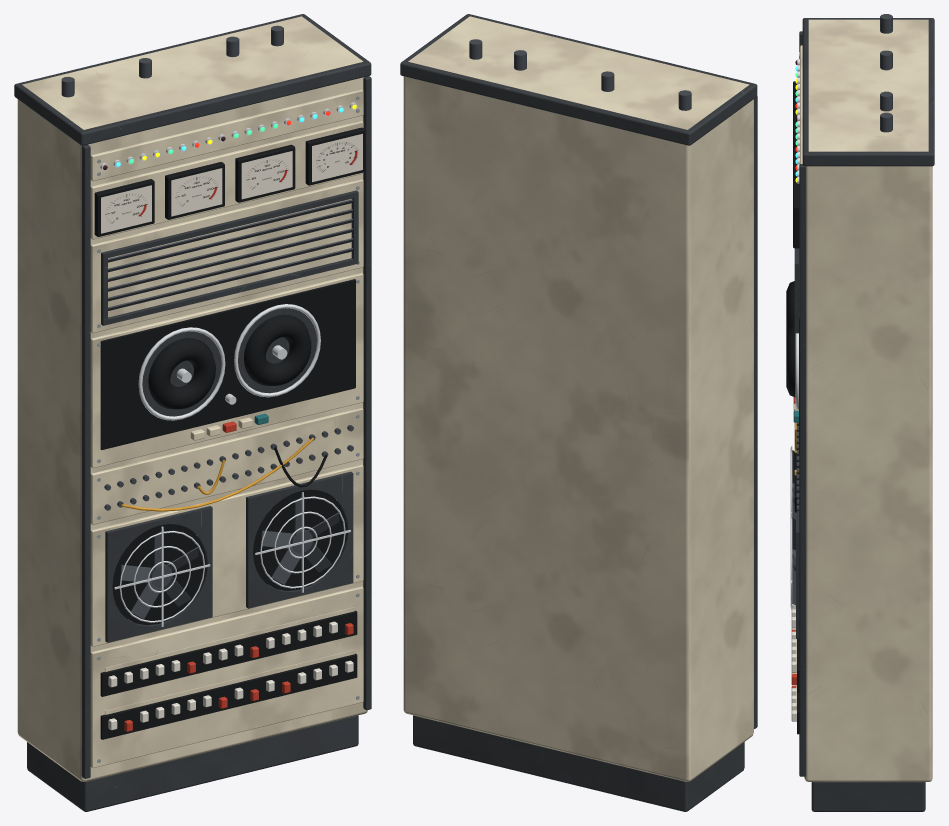
The model's file is Rack_90_3.glb.
The picture shows the model from 3 angles, left to right: view 1: azimuth 30°, elevation 25°; view 2: azimuth 150°, elevation 25°; view 3: azimuth 270°, elevation 25°; orthographic projection. The views are drawn at different scales.
Visible parts, largest first — view 1: Rack_90_3_Body; view 2: Rack_90_3_Body; view 3: Rack_90_3_Body.
Boxes of the visible parts, <box> form: Rack_90_3_Body: <box>14,14,371,811</box>; Rack_90_3_Body: <box>400,14,757,811</box>; Rack_90_3_Body: <box>786,14,934,811</box>.
Size of the model in its own units: 0.91 by 2.1 by 0.4155.
Materials: 18 (8 with a texture image).
